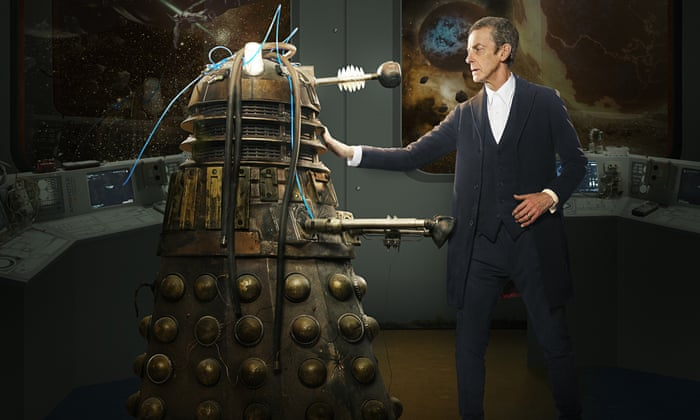dalek: (116, 4, 420, 386)
